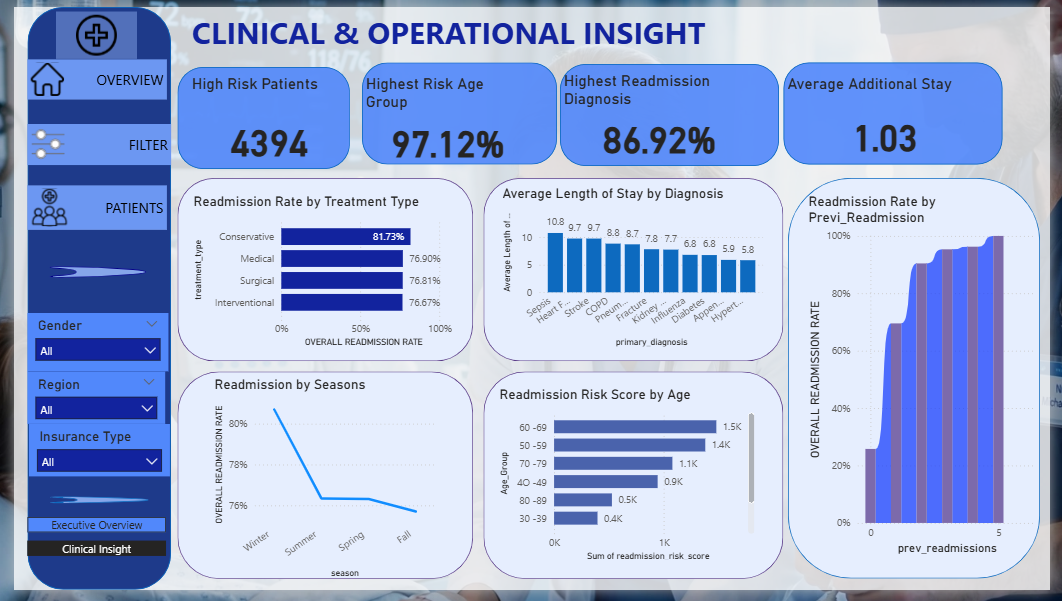

Layout of this report page (visuals, bound fields, positions):
{"tool":"powerbi","page":{"name":"Clinical Insight","canvas":[1280,720],"ordinal":1},"visuals":[{"type":"shape","box":[955.6,211.1,311.1,494.4],"z":0},{"type":"shape","box":[15.8,0,177.2,719.3],"z":1000},{"type":"shape","box":[950,68.5,270.4,125.9],"z":2000},{"type":"shape","box":[674.1,70.4,270.4,125.9],"z":3000},{"type":"shape","box":[429.6,68.5,240.7,125.9],"z":4000},{"type":"shape","box":[201.9,74.1,213,125.9],"z":5000},{"type":"shape","box":[578.9,210.5,370.2,226.3],"z":6000},{"type":"shape","box":[201.8,210.5,364.9,226.3],"z":7000},{"type":"shape","box":[201.8,449.1,364.9,256.1],"z":8000},{"type":"shape","box":[578.9,449.1,370.2,256.1],"z":9000},{"type":"clusteredBarChart","title":"Readmission Rate by Treatment Type","fields":{"Category":["hospital_readmission_dataset.treatment_type"],"Y":["hospital_readmission_dataset.OVERALL READMISSION RATE"]},"box":[217.5,229.8,336.8,194.7],"z":10000},{"type":"clusteredColumnChart","title":"Average Length of Stay by Diagnosis","fields":{"Y":["hospital_readmission_dataset.Average Length of Stay"],"Category":["hospital_readmission_dataset.primary_diagnosis"]},"box":[598.2,221.1,331.6,203.5],"z":11000},{"type":"ribbonChart","title":"Readmission Rate by Previ_Readmission","fields":{"Category":["hospital_readmission_dataset.prev_readmissions"],"Y":["hospital_readmission_dataset.OVERALL READMISSION RATE"]},"box":[975.9,229.6,290.7,450],"z":12000},{"type":"clusteredBarChart","title":"Readmission Risk Score by Age","fields":{"Category":["hospital_readmission_dataset.Age_Group"],"Y":["Sum(hospital_readmission_dataset.readmission_risk_score)"]},"box":[594.7,468.4,324.6,219.3],"z":13000},{"type":"textbox","box":[214.7,0,800.3,65.1],"z":14000},{"type":"card","title":"High Risk Patients","fields":{"Values":["hospital_readmission_dataset.high risk patiet"]},"box":[214,84.2,200,136.8],"z":15000},{"type":"card","title":"Highest Risk Age Group","fields":{"Values":["hospital_readmission_dataset.WorstAge group"]},"box":[429.6,83.3,211.1,116.7],"z":16000},{"type":"card","title":"Highest Readmission Diagnosis","fields":{"Values":["hospital_readmission_dataset.worst dianosis rate"]},"box":[674.1,79.6,244.4,114.8],"z":17000},{"type":"card","title":"Average Additional Stay","fields":{"Values":["hospital_readmission_dataset.EXTRA STAY COST"]},"box":[950,83.3,250,125.9],"z":18000},{"type":"pageNavigator","box":[15.8,629.8,171.9,49.1],"z":19000},{"type":"actionButton","box":[15.8,64.9,171.9,49.1],"z":20000},{"type":"actionButton","box":[15.8,143.9,177.2,50.9],"z":21000},{"type":"actionButton","box":[0,33.3,100,7],"z":22000},{"type":"shape","box":[17,313.2,173.6,28.3],"z":23000},{"type":"actionButton","box":[15.8,221.1,171.9,54.4],"z":24000},{"type":"slicer","fields":{"Values":["hospital_readmission_dataset.gender"]},"box":[17.5,377.2,173.7,71.9],"z":25000},{"type":"slicer","fields":{"Values":["hospital_readmission_dataset.region"]},"box":[17.5,449.1,170.2,64.9],"z":26000},{"type":"slicer","fields":{"Values":["hospital_readmission_dataset.insurance_type"]},"box":[19.3,514,173.7,64.9],"z":27000},{"type":"actionButton","box":[50.9,5.7,100,58.5],"z":28000},{"type":"shape","box":[17,600,177.4,17],"z":29000},{"type":"lineChart","title":"Readmission by Seasons","fields":{"Category":["hospital_readmission_dataset.season"],"Y":["hospital_readmission_dataset.OVERALL READMISSION RATE"]},"box":[242.6,455.6,281.5,253.7],"z":30000}]}

Visuals, with their boxes on the page's 1280x720 design canvas (x1, y1, x2, y2). These are canvas units, not pixel positions in the 1062x601 screenshot, which may show the page scaled, cropped or inside an application window:
shape: [x1=956, y1=211, x2=1267, y2=706]
shape: [x1=16, y1=0, x2=193, y2=719]
shape: [x1=950, y1=68, x2=1220, y2=194]
shape: [x1=674, y1=70, x2=944, y2=196]
shape: [x1=430, y1=68, x2=670, y2=194]
shape: [x1=202, y1=74, x2=415, y2=200]
shape: [x1=579, y1=210, x2=949, y2=437]
shape: [x1=202, y1=210, x2=567, y2=437]
shape: [x1=202, y1=449, x2=567, y2=705]
shape: [x1=579, y1=449, x2=949, y2=705]
"Readmission Rate by Treatment Type" clusteredBarChart: [x1=218, y1=230, x2=554, y2=424]
"Average Length of Stay by Diagnosis" clusteredColumnChart: [x1=598, y1=221, x2=930, y2=425]
"Readmission Rate by Previ_Readmission" ribbonChart: [x1=976, y1=230, x2=1267, y2=680]
"Readmission Risk Score by Age" clusteredBarChart: [x1=595, y1=468, x2=919, y2=688]
textbox: [x1=215, y1=0, x2=1015, y2=65]
"High Risk Patients" card: [x1=214, y1=84, x2=414, y2=221]
"Highest Risk Age Group" card: [x1=430, y1=83, x2=641, y2=200]
"Highest Readmission Diagnosis" card: [x1=674, y1=80, x2=918, y2=194]
"Average Additional Stay" card: [x1=950, y1=83, x2=1200, y2=209]
pageNavigator: [x1=16, y1=630, x2=188, y2=679]
actionButton: [x1=16, y1=65, x2=188, y2=114]
actionButton: [x1=16, y1=144, x2=193, y2=195]
actionButton: [x1=0, y1=33, x2=100, y2=40]
shape: [x1=17, y1=313, x2=191, y2=342]
actionButton: [x1=16, y1=221, x2=188, y2=276]
slicer - hospital_readmission_dataset.gender: [x1=18, y1=377, x2=191, y2=449]
slicer - hospital_readmission_dataset.region: [x1=18, y1=449, x2=188, y2=514]
slicer - hospital_readmission_dataset.insurance_type: [x1=19, y1=514, x2=193, y2=579]
actionButton: [x1=51, y1=6, x2=151, y2=64]
shape: [x1=17, y1=600, x2=194, y2=617]
"Readmission by Seasons" lineChart: [x1=243, y1=456, x2=524, y2=709]
